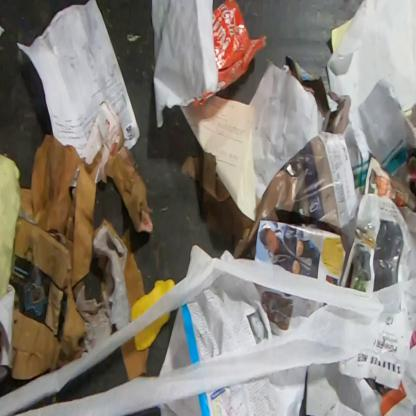cardboard: (20, 97, 154, 288), (9, 216, 87, 381), (93, 215, 146, 322), (212, 0, 268, 92), (120, 336, 150, 382)
